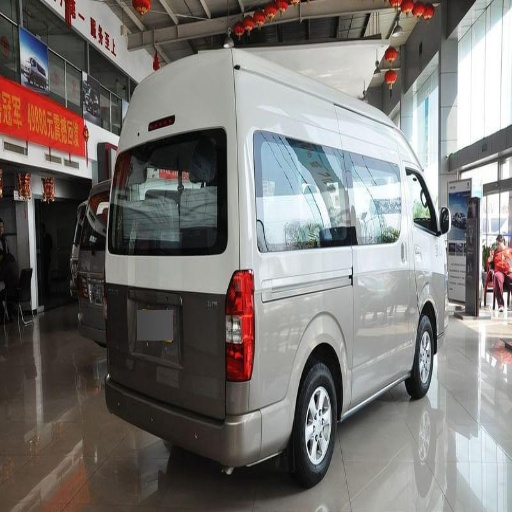back_bumper: (108, 368, 294, 468)
trunk: (114, 250, 440, 414), (242, 89, 305, 126)
